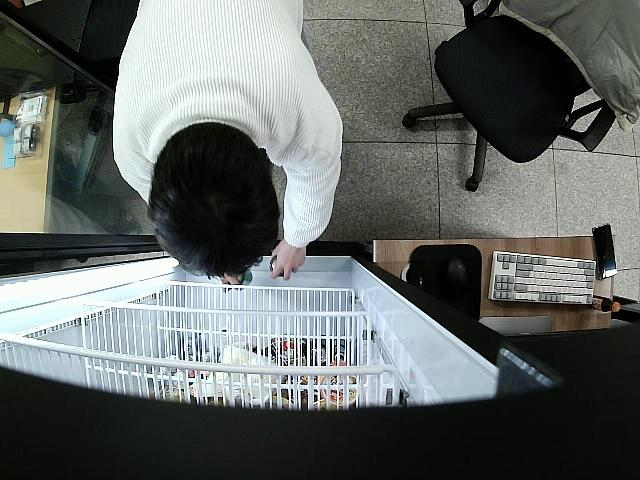00_hand: (271, 238, 305, 280)
